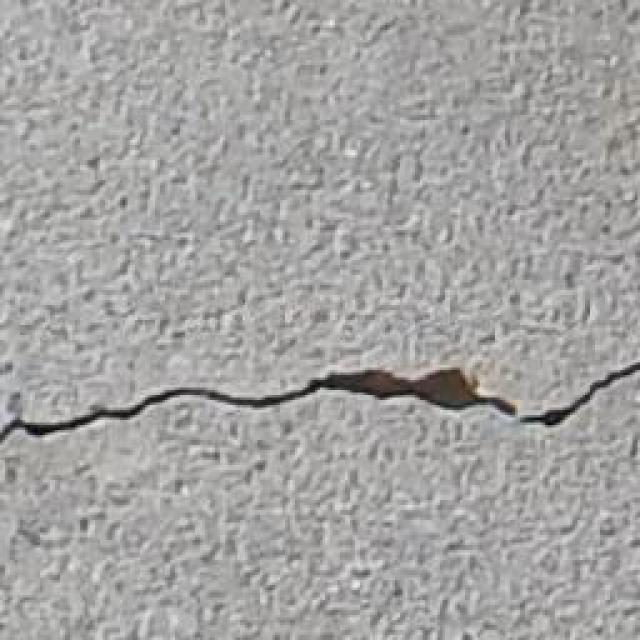concrete-crack: (0, 358, 640, 448)
